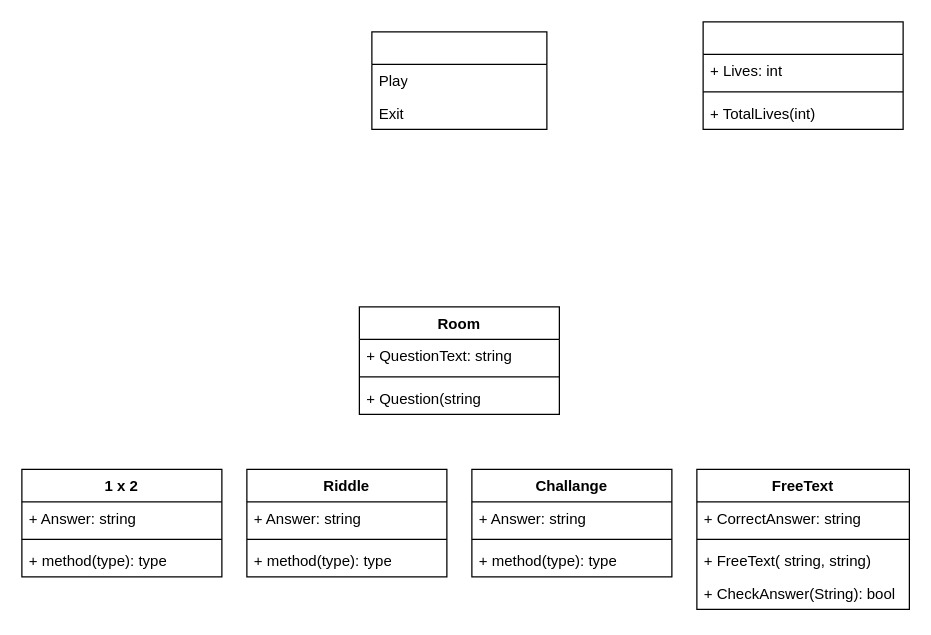
The diagram is 931 pixels wide and 635 high, and some of its shapes have lost their labels. The box of each missing label's shape, as (x1, y1, x2, y2) in pixels:
Meny: (371, 31, 547, 129)
Player: (702, 21, 903, 129)
